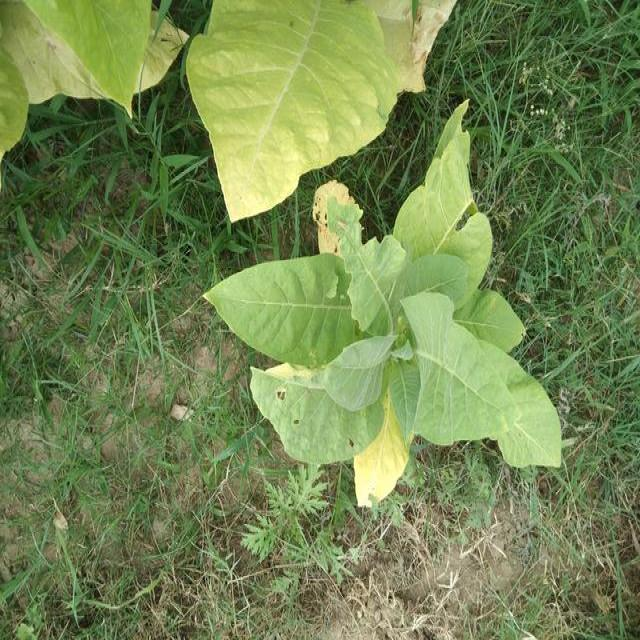crop: (200, 104, 576, 517)
